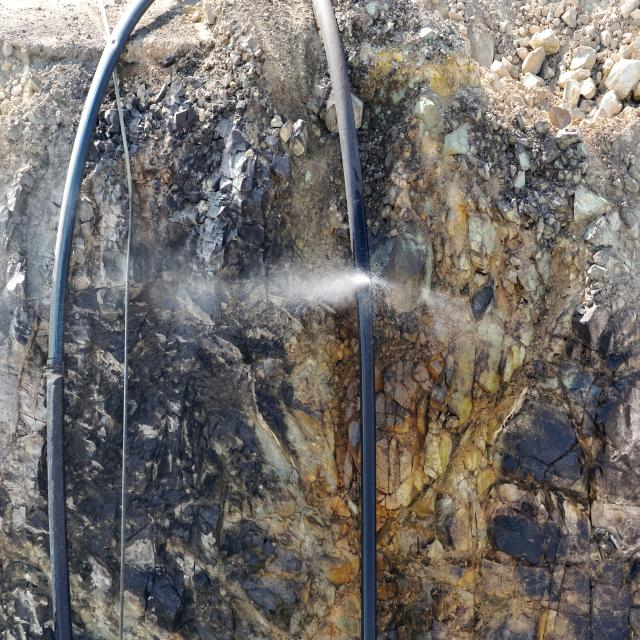leak: (143, 259, 451, 361)
